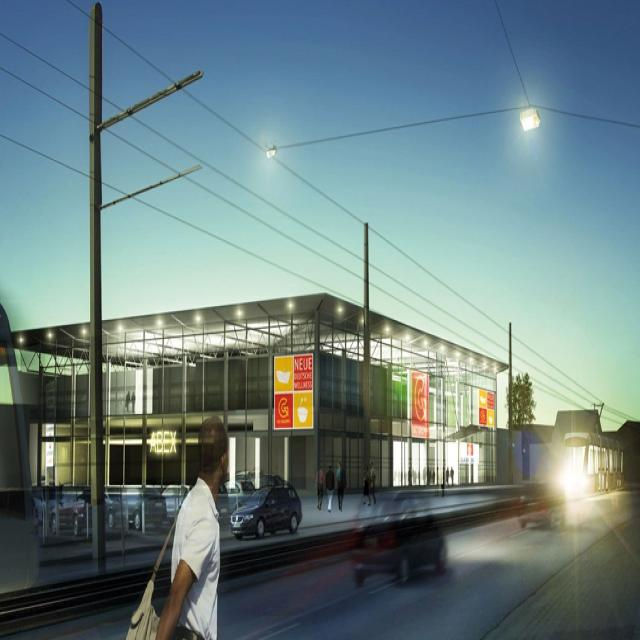body: (122, 410, 232, 639), (393, 464, 437, 488), (335, 458, 346, 511), (324, 462, 335, 513), (314, 463, 324, 512), (362, 464, 372, 506), (367, 460, 376, 505), (434, 465, 441, 498), (440, 464, 446, 496), (124, 388, 131, 412), (130, 390, 136, 414), (444, 466, 450, 486), (449, 464, 454, 486)
